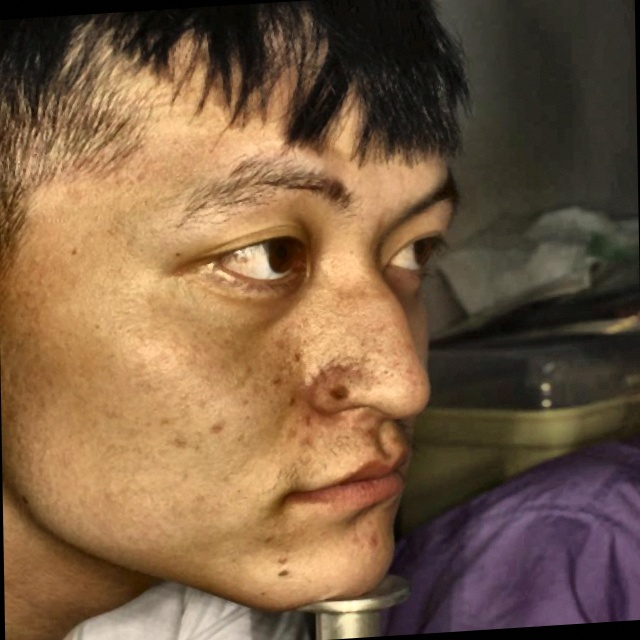comedone: (205, 412, 227, 437), (364, 534, 384, 559)
